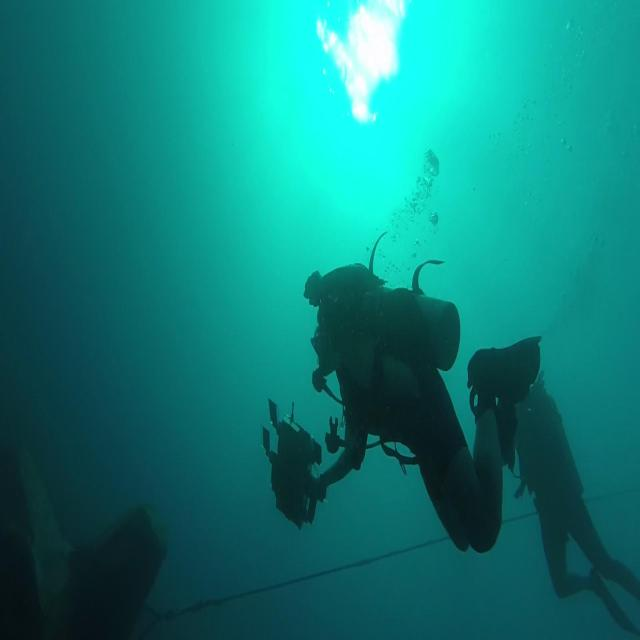human: (267, 254, 518, 555), (466, 334, 639, 636)
